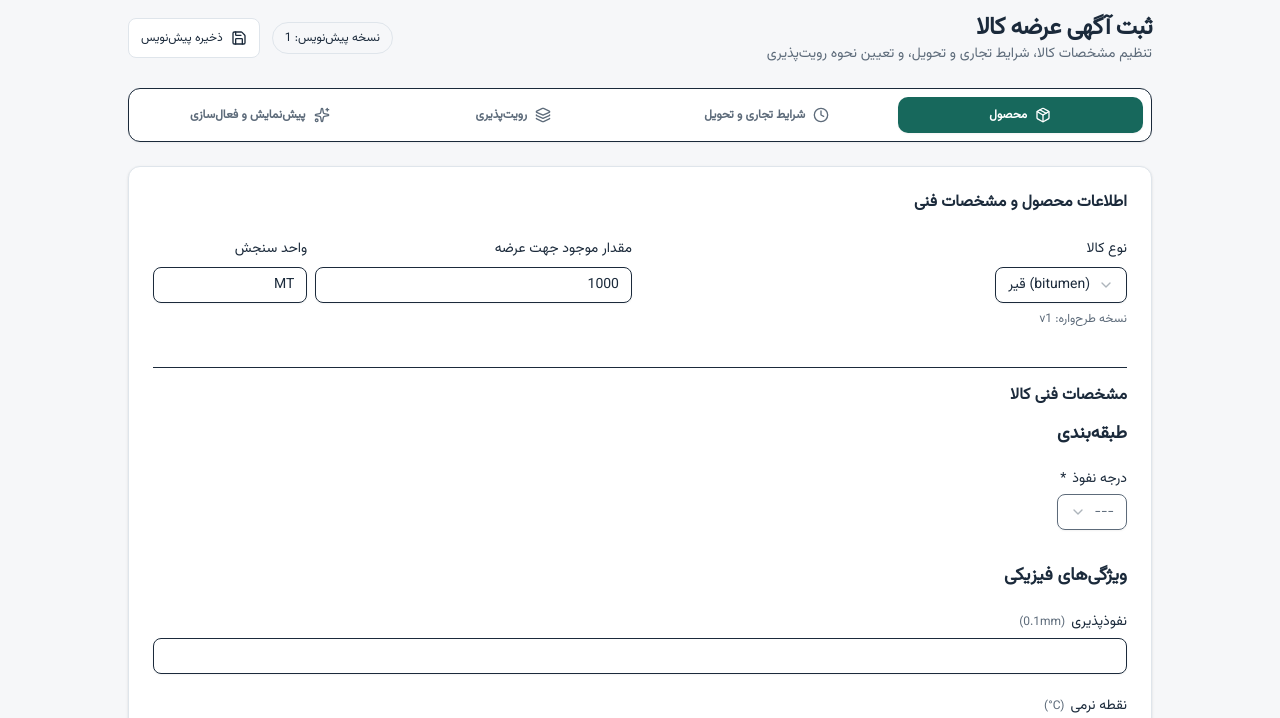
T0509 — Supply Listing UI Component Suite › 7. Stale concurrency conflict (409): displays Persian error, refetches authoritative draft, does not overwrite
Note: Change value and save
Replace the text in the number field showing "1000" with "1200" at (474, 285), box x1=315 y1=267 x2=632 y2=303
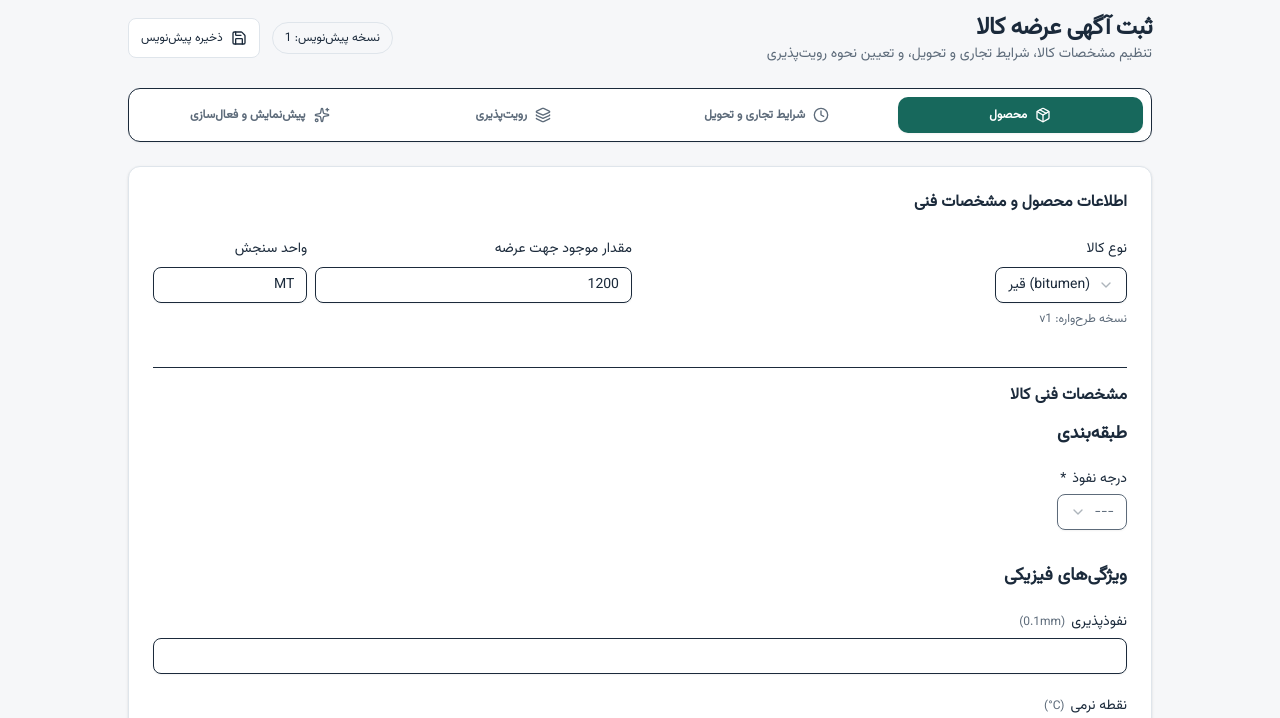
Click the button "ذخیره پیش‌نویس" at (194, 38), box x1=128 y1=18 x2=260 y2=58
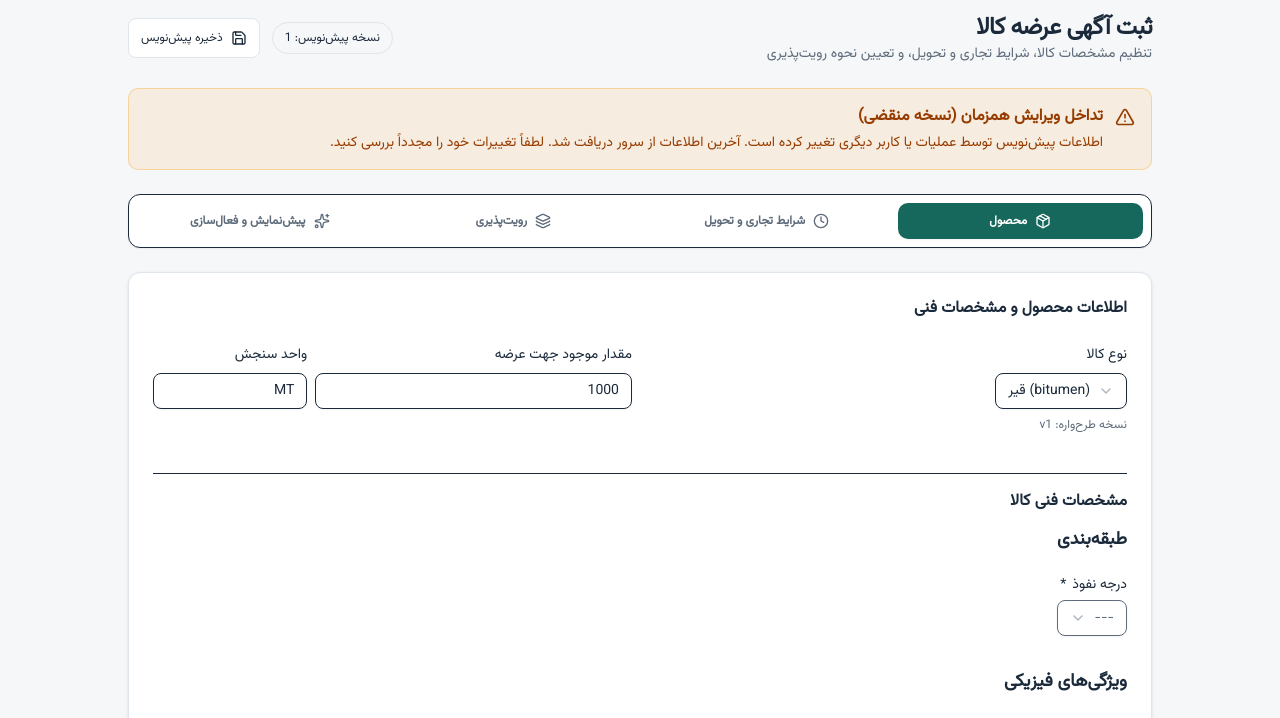
Expected: the text "تداخل ویرایش همزمان (نسخه منقضی)" is shown, x1=858 y1=104 x2=1103 y2=129
Expected: the text "اطلاعات پیش‌نویس توسط عملیات یا کاربر دیگری تغییر کرده است. آخرین اطلاعات از سرور دریافت شد. لطفاً تغییرات خود را مجدداً" is shown, x1=330 y1=132 x2=1103 y2=154
